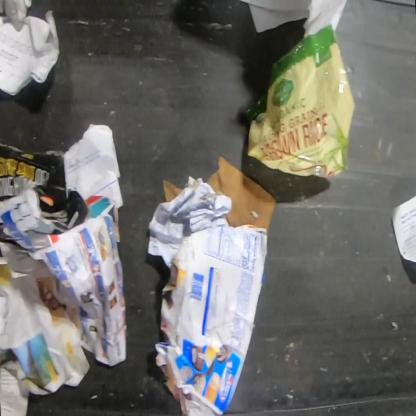cardboard: (155, 224, 269, 415), (208, 158, 276, 230)
soft_plastic: (247, 18, 355, 179)
